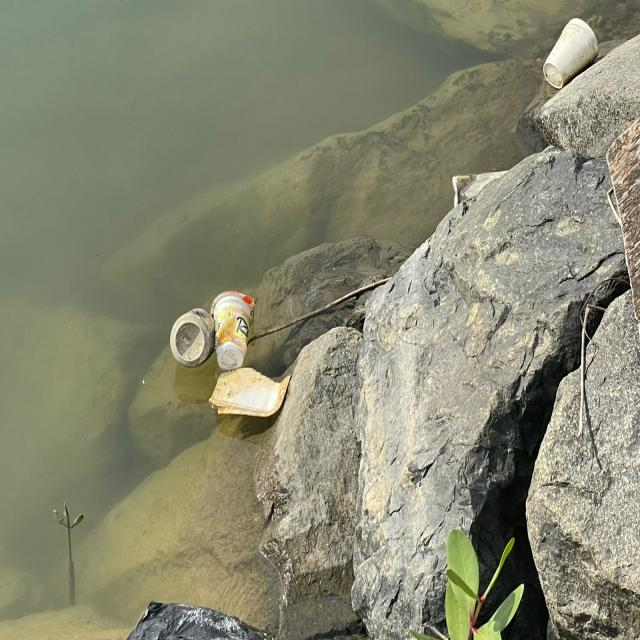Bungkus Minuman: (541, 12, 606, 92), (210, 286, 259, 372)
